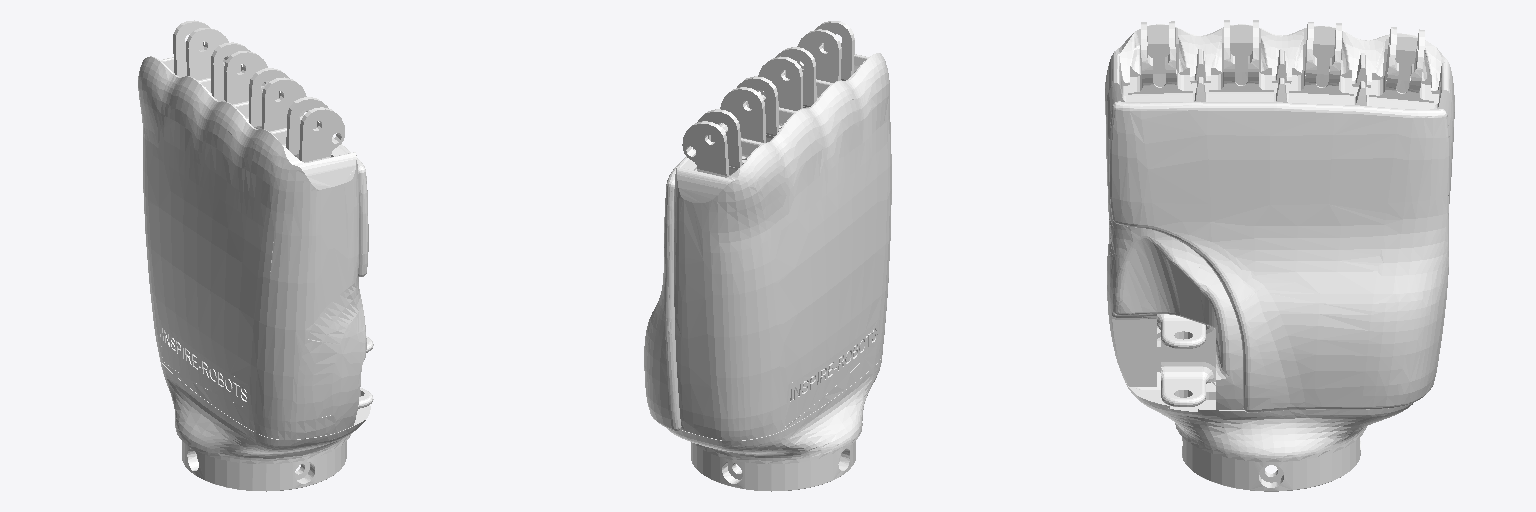
URDF robot description (inspire_hand_l):
<?xml version="1.0" encoding="utf-8"?>
<!-- This URDF was automatically created by SolidWorks to URDF Exporter! Originally created by [author] ([email redacted]) 
     Commit Version: 1.6.0-4-g7f85cfe  Build Version: 1.6.7995.38578
     For more information, please see http://wiki.ros.org/sw_urdf_exporter -->
<robot
  name="inspire_hand_l">
  
 <link name="world"/>
  <joint name="fixed" type="fixed">
  <origin
   xyz="0.5 0.5 0.001"
   rpy="3.14 0 -1.5707963" />
  <parent link="world"/>
  <child link="L_hand_base_link"/>
  </joint>
  
  <link
    name="L_hand_base_link">
    <inertial>
      <origin
        xyz="0 -0.0013 0"
        rpy="3.14 0 0" />
      <mass
        value="0.14143" />
      <inertia
        ixx="7.7231E-05"
        ixy="-1.5968E-06"
        ixz="1.7694E-06"
        iyy="8.3835E-05"
        iyz="2.1995E-06"
        izz="0.0001234" />
    </inertial>
    <visual>
      <origin
        xyz="0 -0.0013 0"
        rpy="3.14 0 0" />
      <geometry>
        <mesh
          filename="package://inspire_hand_l/meshes/L_hand_base_link.STL" />
      </geometry>
      <material
        name="">
        <color
          rgba="1 1 1 1" />
      </material>
    </visual>
    <collision>
      <origin
        xyz="0 -0.0013 0"
        rpy="3.14 0 0" />
      <geometry>
        <mesh
          filename="package://inspire_hand_l/meshes/L_hand_base_link.STL" />
      </geometry>
    </collision>
  </link>
  <link
    name="L_thumb_proximal_base">
    <inertial>
      <origin
        xyz="-0.0048772 0.005 -0.00044071"
        rpy="0 0 0" />
      <mass
        value="0.0018869" />
      <inertia
        ixx="5.2003E-08"
        ixy="4.8353E-09"
        ixz="6.6444E-09"
        iyy="6.7434E-08"
        iyz="-5.4476E-10"
        izz="8.5319E-08" />
    </inertial>
    <visual>
      <origin
        xyz="0 0 0"
        rpy="0 0.3 0" />
      <geometry>
        <mesh
          filename="package://inspire_hand_l/meshes/L_thumb_proximal_base.STL" />
      </geometry>
      <material
        name="">
        <color
          rgba="1 1 1 1" />
      </material>
    </visual>
    <collision>
      <origin
        xyz="0 0 0"
        rpy="0 0.3 0" />
      <geometry>
        <mesh
          filename="package://inspire_hand_l/meshes/L_thumb_proximal_base.STL" />
      </geometry>
    </collision>
  </link>
  <joint
    name="L_thumb_MCP_joint1"
    type="revolute">
    <origin
      xyz="0.020450106 -0.016955517 -0.023202411"
      rpy="-1.5708 0 2.9722026" />
    <parent
      link="L_hand_base_link" />
    <child
      link="L_thumb_proximal_base" />
    <axis
      xyz="0 1 0" />
    <limit
      lower="0"
      upper="1.1"
      effort="50"
      velocity="1" />
  </joint>
  <link
    name="L_thumb_proximal">
    <inertial>
      <origin
        xyz="-3.8578E-05 0.025335 0.0016982"
        rpy="0 0 0" />
      <mass
        value="0.0066101" />
      <inertia
        ixx="2.787E-06"
        ixy="1.3042E-10"
        ixz="1.3413E-09"
        iyy="8.9435E-07"
        iyz="2.1426E-07"
        izz="2.4105E-06" />
    </inertial>
    <visual>
      <origin
        xyz="0 0 0"
        rpy="0 0 0" />
      <geometry>
        <mesh
          filename="package://inspire_hand_l/meshes/L_thumb_proximal.STL" />
      </geometry>
      <material
        name="">
        <color
          rgba="1 1 1 1" />
      </material>
    </visual>
    <collision>
      <origin
        xyz="0 0 0"
        rpy="0 0 0" />
      <geometry>
        <mesh
          filename="package://inspire_hand_l/meshes/L_thumb_proximal.STL" />
      </geometry>
    </collision>
  </link>
  <joint
    name="L_thumb_MCP_joint2"
    type="revolute">
    <origin
      xyz="-0.0115 0.005 0.0034"
      rpy="0.5948037 -1.2708 0" />
    <parent
      link="L_thumb_proximal_base" />
    <child
      link="L_thumb_proximal" />
    <axis
      xyz="-1 0 0" />
    <limit
      lower="0"
      upper="0.5"
      effort="50"
      velocity="1" />
  </joint>
  <link
    name="L_thumb_intermediate">
    <inertial>
      <origin
        xyz="-1.7401E-07 0.0072516 0.0064286"
        rpy="0 0 0" />
      <mass
        value="0.0037844" />
      <inertia
        ixx="4.6532E-07"
        ixy="-9.1152E-13"
        ixz="-3.8682E-12"
        iyy="2.6856E-07"
        iyz="6.4144E-08"
        izz="4.252E-07" />
    </inertial>
    <visual>
      <origin
        xyz="0 0 0"
        rpy="0 0 0" />
      <geometry>
        <mesh
          filename="package://inspire_hand_l/meshes/L_thumb_intermediate.STL" />
      </geometry>
      <material
        name="">
        <color
          rgba="1 1 1 1" />
      </material>
    </visual>
    <collision>
      <origin
        xyz="0 0 0"
        rpy="0 0 0" />
      <geometry>
        <mesh
          filename="package://inspire_hand_l/meshes/L_thumb_intermediate.STL" />
      </geometry>
    </collision>
  </link>
  <joint
    name="L_thumb_PIP_joint"
    type="revolute">
    <origin
      xyz="0 0.055863 -0.0039241"
      rpy="0.038299 0 0" />
    <parent
      link="L_thumb_proximal" />
    <child
      link="L_thumb_intermediate" />
    <axis
      xyz="-1 0 0" />
    <limit
      lower="0"
      upper="1"
      effort="50"
      velocity="1" />
      <mimic 
        joint="L_thumb_MCP_joint2"
        multiplier="0.6"
        offset="0" />
  </joint>
  <link
    name="L_thumb_distal">
    <inertial>
      <origin
        xyz="-3.3076E-06 0.010511 0.00057861"
        rpy="0 0 0" />
      <mass
        value="0.003344" />
      <inertia
        ixx="2.0026E-07"
        ixy="-1.4157E-10"
        ixz="5.6213E-11"
        iyy="8.7108E-08"
        iyz="2.4414E-08"
        izz="1.8974E-07" />
    </inertial>
    <visual>
      <origin
        xyz="0 0 0"
        rpy="0 0 0" />
      <geometry>
        <mesh
          filename="package://inspire_hand_l/meshes/L_thumb_distal.STL" />
      </geometry>
      <material
        name="">
        <color
          rgba="1 1 1 1" />
      </material>
    </visual>
    <collision>
      <origin
        xyz="0 0 0"
        rpy="0 0 0" />
      <geometry>
        <mesh
          filename="package://inspire_hand_l/meshes/L_thumb_distal.STL" />
      </geometry>
    </collision>
  </link>
  <joint
    name="L_thumb_DIP_joint"
    type="revolute">
    <origin
      xyz="0 0.022558 0.0020717"
      rpy="0.011642 0 0" />
    <parent
      link="L_thumb_intermediate" />
    <child
      link="L_thumb_distal" />
    <axis
      xyz="-1 0 0" />
    <limit
      lower="0"
      upper="1.2"
      effort="50"
      velocity="1" />
      <mimic 
        joint="L_thumb_MCP_joint2"
        multiplier="0.8"
        offset="0" />
  </joint>
  <link
    name="L_index_proximal">
    <inertial>
      <origin
        xyz="0.0080456 0.011884 -0.0016957"
        rpy="0 0 0" />
      <mass
        value="0.0042405" />
      <inertia
        ixx="6.9402E-07"
        ixy="1.4654E-11"
        ixz="-2.3231E-12"
        iyy="2.3041E-07"
        iyz="9.1802E-08"
        izz="6.4342E-07" />
    </inertial>
    <visual>
      <origin
        xyz="0 0 0"
        rpy="0 0 0" />
      <geometry>
        <mesh
          filename="package://inspire_hand_l/meshes/L_index_proximal.STL" />
      </geometry>
      <material
        name="">
        <color
          rgba="1 1 1 1" />
      </material>
    </visual>
    <collision>
      <origin
        xyz="0 0 0"
        rpy="0 0 0" />
      <geometry>
        <mesh
          filename="package://inspire_hand_l/meshes/L_index_proximal.STL" />
      </geometry>
    </collision>
  </link>
  <joint
    name="L_index_MCP_joint"
    type="revolute">
    <origin
      xyz="0.018231106 0.000284483 -0.105012411"
      rpy="-1.3208 -0.034907 0" />
    <parent
      link="L_hand_base_link" />
    <child
      link="L_index_proximal" />
    <axis
      xyz="-1 0 0" />
    <limit
      lower="0"
      upper="1.7"
      effort="50"
      velocity="1" />
  </joint>
  <link
    name="L_index_distal">
    <inertial>
      <origin
        xyz="0.0063917 0.01959 -0.0019564"
        rpy="0 0 0" />
      <mass
        value="0.0045682" />
      <inertia
        ixx="7.8176E-07"
        ixy="-7.7162E-14"
        ixz="3.9272E-13"
        iyy="1.5634E-07"
        iyz="2.1006E-07"
        izz="7.0081E-07" />
    </inertial>
    <visual>
      <origin
        xyz="0 0 0"
        rpy="0 0 0" />
      <geometry>
        <mesh
          filename="package://inspire_hand_l/meshes/L_index_distal.STL" />
      </geometry>
      <material
        name="">
        <color
          rgba="1 1 1 1" />
      </material>
    </visual>
    <collision>
      <origin
        xyz="0 0 0"
        rpy="0 0 0" />
      <geometry>
        <mesh
          filename="package://inspire_hand_l/meshes/L_index_distal.STL" />
      </geometry>
    </collision>
  </link>
  <joint
    name="L_index_DIP_joint"
    type="revolute">
    <origin
      xyz="0.0016538 0.030445 -0.010275"
      rpy="-0.039748 0 0" />
    <parent
      link="L_index_proximal" />
    <child
      link="L_index_distal" />
    <axis
      xyz="-1 0 0" />
    <limit
      lower="0"
      upper="1.6"
      effort="50"
      velocity="1" />
      <mimic 
        joint="L_index_MCP_joint"
        multiplier="1"
        offset="0" />
  </joint>
  <link
    name="L_middle_proximal">
    <inertial>
      <origin
        xyz="0.0080653 0.011884 -0.0016957"
        rpy="0 0 0" />
      <mass
        value="0.0042405" />
      <inertia
        ixx="6.9402E-07"
        ixy="1.4338E-11"
        ixz="-2.3917E-12"
        iyy="2.3041E-07"
        iyz="9.1802E-08"
        izz="6.4342E-07" />
    </inertial>
    <visual>
      <origin
        xyz="0 0 0"
        rpy="0 0 0" />
      <geometry>
        <mesh
          filename="package://inspire_hand_l/meshes/L_middle_proximal.STL" />
      </geometry>
      <material
        name="">
        <color
          rgba="1 1 1 1" />
      </material>
    </visual>
    <collision>
      <origin
        xyz="0 0 0"
        rpy="0 0 0" />
      <geometry>
        <mesh
          filename="package://inspire_hand_l/meshes/L_middle_proximal.STL" />
      </geometry>
    </collision>
  </link>
  <joint
    name="L_middle_MCP_joint"
    type="revolute">
    <origin
      xyz="-0.001114894 0.000284483 -0.105012411"
      rpy="-1.3208 0 0" />
    <parent
      link="L_hand_base_link" />
    <child
      link="L_middle_proximal" />
    <axis
      xyz="-1 0 0" />
    <limit
      lower="0"
      upper="1.68"
      effort="50"
      velocity="1" />
  </joint>
  <link
    name="L_middle_distal">
    <inertial>
      <origin
        xyz="0.0063955 0.020807 -0.0018039"
        rpy="0 0 0" />
      <mass
        value="0.0050397" />
      <inertia
        ixx="9.8385E-07"
        ixy="-4.0683E-12"
        ixz="-1.7233E-12"
        iyy="1.7328E-07"
        iyz="2.5594E-07"
        izz="8.9141E-07" />
    </inertial>
    <visual>
      <origin
        xyz="0 0 0"
        rpy="0 0 0" />
      <geometry>
        <mesh
          filename="package://inspire_hand_l/meshes/L_middle_distal.STL" />
      </geometry>
      <material
        name="">
        <color
          rgba="1 1 1 1" />
      </material>
    </visual>
    <collision>
      <origin
        xyz="0 0 0"
        rpy="0 0 0" />
      <geometry>
        <mesh
          filename="package://inspire_hand_l/meshes/L_middle_distal.STL" />
      </geometry>
    </collision>
  </link>
  <joint
    name="L_middle_DIP_joint"
    type="revolute">
    <origin
      xyz="0.0016698 0.030445 -0.010275"
      rpy="-0.071413 0 0" />
    <parent
      link="L_middle_proximal" />
    <child
      link="L_middle_distal" />
    <axis
      xyz="-1 0 0" />
    <limit
      lower="0"
      upper="1.6"
      effort="50"
      velocity="1" />
      <mimic 
        joint="L_middle_MCP_joint"
        multiplier="1"
        offset="0" />
  </joint>
  <link
    name="L_ring_proximal">
    <inertial>
      <origin
        xyz="0.010821 0.011884 -0.0016957"
        rpy="0 0 0" />
      <mass
        value="0.0042405" />
      <inertia
        ixx="6.9402E-07"
        ixy="1.3923E-11"
        ixz="-2.5637E-12"
        iyy="2.3041E-07"
        iyz="9.1802E-08"
        izz="6.4342E-07" />
    </inertial>
    <visual>
      <origin
        xyz="0 0 0"
        rpy="0 0 0" />
      <geometry>
        <mesh
          filename="package://inspire_hand_l/meshes/L_ring_proximal.STL" />
      </geometry>
      <material
        name="">
        <color
          rgba="1 1 1 1" />
      </material>
    </visual>
    <collision>
      <origin
        xyz="0 0 0"
        rpy="0 0 0" />
      <geometry>
        <mesh
          filename="package://inspire_hand_l/meshes/L_ring_proximal.STL" />
      </geometry>
    </collision>
  </link>
  <joint
    name="L_ring_MCP_joint"
    type="revolute">
    <origin
      xyz="-0.023084894 0.000284483 -0.104032411"
      rpy="-1.3208 0.05236 0" />
    <parent
      link="L_hand_base_link" />
    <child
      link="L_ring_proximal" />
    <axis
      xyz="-1 0 0" />
    <limit
      lower="0"
      upper="1.7"
      effort="50"
      velocity="1" />
  </joint>
  <link
    name="L_ring_distal">
    <inertial>
      <origin
        xyz="0.009285 0.019591 -0.0019565"
        rpy="0 0 0" />
      <mass
        value="0.0045682" />
      <inertia
        ixx="7.8176E-07"
        ixy="4.4486E-13"
        ixz="-6.071E-14"
        iyy="1.5634E-07"
        iyz="2.1006E-07"
        izz="7.0081E-07" />
    </inertial>
    <visual>
      <origin
        xyz="0 0 0"
        rpy="0 0 0" />
      <geometry>
        <mesh
          filename="package://inspire_hand_l/meshes/L_ring_distal.STL" />
      </geometry>
      <material
        name="">
        <color
          rgba="1 1 1 1" />
      </material>
    </visual>
    <collision>
      <origin
        xyz="0 0 0"
        rpy="0 0 0" />
      <geometry>
        <mesh
          filename="package://inspire_hand_l/meshes/L_ring_distal.STL" />
      </geometry>
    </collision>
  </link>
  <joint
    name="L_ring_DIP_joint"
    type="revolute">
    <origin
      xyz="0.0015355 0.030445 -0.010275"
      rpy="-0.039748 0 0" />
    <parent
      link="L_ring_proximal" />
    <child
      link="L_ring_distal" />
    <axis
      xyz="-1 0 0" />
    <limit
      lower="0"
      upper="1.6"
      effort="50"
      velocity="1" />
      <mimic 
        joint="L_ring_MCP_joint"
        multiplier="1"
        offset="0" />
  </joint>
  <link
    name="L_pinky_proximal">
    <inertial>
      <origin
        xyz="0.008046 0.011884 -0.0016957"
        rpy="0 0 0" />
      <mass
        value="0.0042405" />
      <inertia
        ixx="6.9402E-07"
        ixy="1.4088E-11"
        ixz="-2.5363E-12"
        iyy="2.3041E-07"
        iyz="9.1802E-08"
        izz="6.4342E-07" />
    </inertial>
    <visual>
      <origin
        xyz="-0.006 0 0"
        rpy="0 0 0" />
      <geometry>
        <mesh
          filename="package://inspire_hand_l/meshes/L_pinky_proximal.STL" />
      </geometry>
      <material
        name="">
        <color
          rgba="1 1 1 1" />
      </material>
    </visual>
    <collision>
      <origin
        xyz="-0.006 0 0"
        rpy="0 0 0" />
      <geometry>
        <mesh
          filename="package://inspire_hand_l/meshes/L_pinky_proximal.STL" />
      </geometry>
    </collision>
  </link>
  <joint
    name="L_pinky_MCP_joint"
    type="revolute">
    <origin
      xyz="-0.038926894 0.000284483 -0.101672411"
      rpy="-1.3208 0.10472 0" />
    <parent
      link="L_hand_base_link" />
    <child
      link="L_pinky_proximal" />
    <axis
      xyz="-1 0 0" />
    <limit
      lower="0"
      upper="1.7"
      effort="50"
      velocity="1" />
  </joint>
  <link
    name="L_pinky_distal">
    <inertial>
      <origin
        xyz="0.007546 0.016245 -0.0022219"
        rpy="0 0 0" />
      <mass
        value="0.0036036" />
      <inertia
        ixx="4.4881E-07"
        ixy="-2.6544E-12"
        ixz="2.0643E-12"
        iyy="1.2252E-07"
        iyz="1.3507E-07"
        izz="3.8703E-07" />
    </inertial>
    <visual>
      <origin
        xyz="-0.006 0 0"
        rpy="0 0 0" />
      <geometry>
        <mesh
          filename="package://inspire_hand_l/meshes/L_pinky_distal.STL" />
      </geometry>
      <material
        name="">
        <color
          rgba="1 1 1 1" />
      </material>
    </visual>
    <collision>
      <origin
        xyz="-0.006 0 0"
        rpy="0 0 0" />
      <geometry>
        <mesh
          filename="package://inspire_hand_l/meshes/L_pinky_distal.STL" />
      </geometry>
    </collision>
  </link>
  <joint
    name="L_pinky_DIP_joint"
    type="revolute">
    <origin
      xyz="0 0.030445 -0.010275"
      rpy="0.037691 0 0" />
    <parent
      link="L_pinky_proximal" />
    <child
      link="L_pinky_distal" />
    <axis
      xyz="-1 0 0" />
    <limit
      lower="0"
      upper="1.6"
      effort="50"
      velocity="1" />
      <mimic 
        joint="L_pinky_MCP_joint"
        multiplier="1"
        offset="0" />
  </joint>
</robot>

--- Facts derived from the render (not from the file) ---
Views: 3 orthographic renders of the robot side by side, from view 1: azimuth 30°, elevation 25°; view 2: azimuth 150°, elevation 25°; view 3: azimuth 270°, elevation 25°.
Robot: inspire_hand_l — 14 links, 13 joints (12 revolute, 1 fixed); root link world; default pose: all joints at 0.
Visible links, largest first — view 1: L_hand_base_link; view 2: L_hand_base_link; view 3: L_hand_base_link.
Boxes of the visible links, bbox=[...] form: L_hand_base_link: bbox=[138, 20, 373, 491]; L_hand_base_link: bbox=[644, 21, 891, 491]; L_hand_base_link: bbox=[1105, 20, 1454, 491].
Bounding box of the posed robot: 0.0456 × 0.0815 × 0.11 m (x, y, z).
1 mesh visuals loaded from 13 distinct referenced files (1 binary STL); not drawn: 12 (reference not matched to a file when rendering).